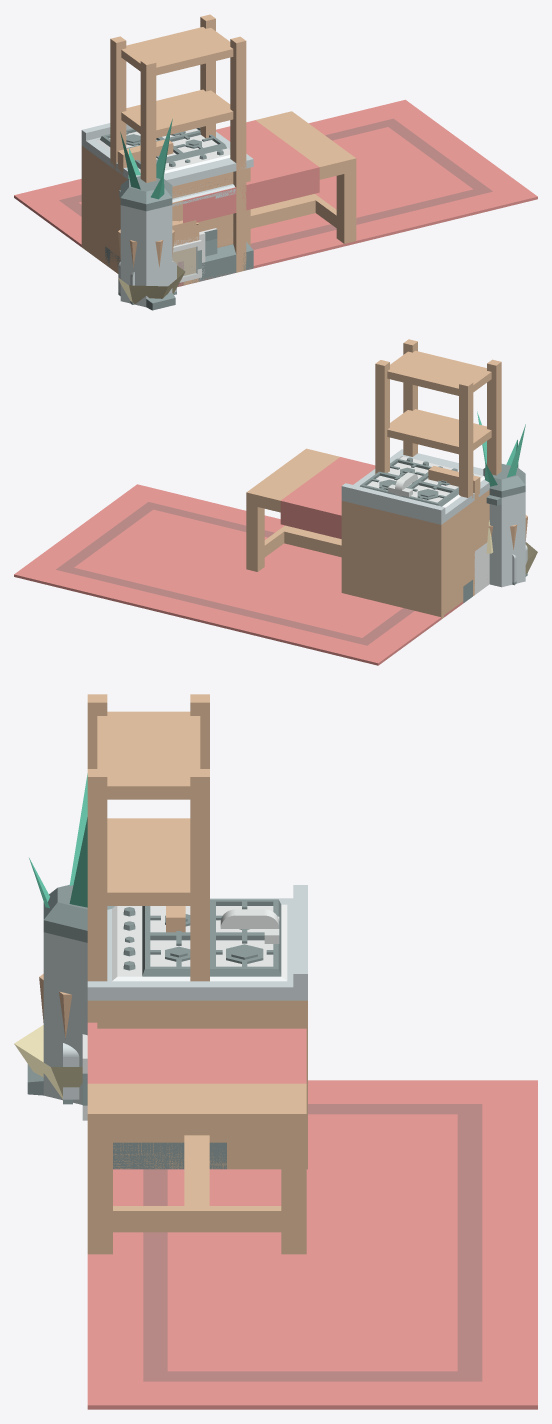
The model's file is furniture.glb.
The picture shows the model from 3 angles, top to bottom: view 1: azimuth 30°, elevation 25°; view 2: azimuth 150°, elevation 25°; view 3: azimuth 270°, elevation 25°; orthographic projection. The views are drawn at different scales.
Visible parts, largest first — view 1: rugRectangle(Clone), bookcaseOpen(Clone), tableCloth(Clone), kitchenSink(Clone), trashcan(Clone), kitchenStove(Clone), door (×2), hoodLarge(Clone), cardboardBoxClosed(Clone), plant, Group, chair(Clone) (+3 smaller); view 2: rugRectangle(Clone), kitchenSink(Clone), bookcaseOpen(Clone), tableCloth(Clone), trashcan(Clone), kitchenStove(Clone), chair(Clone), kitchenMicrowave(Clone), plant; view 3: rugRectangle(Clone), tableCloth(Clone), bookcaseOpen(Clone), kitchenSink(Clone), kitchenStove(Clone), trashcan(Clone), hoodLarge(Clone), lampWall(Clone), plant.
Part boxes in pixels (x1,y1,x2,y2): rugRectangle(Clone): (14,99,537,281); bookcaseOpen(Clone): (110,14,246,272); tableCloth(Clone): (86,111,356,243); kitchenSink(Clone): (81,123,253,272); trashcan(Clone): (119,176,175,310); kitchenStove(Clone): (82,124,252,179); door (×2): (172,177,235,247); hoodLarge(Clone): (105,242,253,285); cardboardBoxClosed(Clone): (116,216,199,285); plant: (120,119,172,199); Group: (172,240,201,282); chair(Clone): (117,139,196,265); rugRectangle(Clone): (14,484,463,665); kitchenSink(Clone): (341,449,489,616); bookcaseOpen(Clone): (375,339,501,581); tableCloth(Clone): (246,448,484,618); trashcan(Clone): (483,464,525,587); kitchenStove(Clone): (342,449,488,512); chair(Clone): (428,466,480,585); kitchenMicrowave(Clone): (474,542,489,594); plant: (477,411,525,486); rugRectangle(Clone): (87,1080,537,1409); tableCloth(Clone): (87,1022,306,1254); bookcaseOpen(Clone): (87,694,209,1022); kitchenSink(Clone): (87,885,307,1169); kitchenStove(Clone): (87,885,307,987); trashcan(Clone): (27,885,114,1104); hoodLarge(Clone): (113,1142,226,1169); lampWall(Clone): (14,1025,82,1098); plant: (29,773,87,908).
Bounding box in the file's own units: 1.68 × 0.88 × 1.07.
